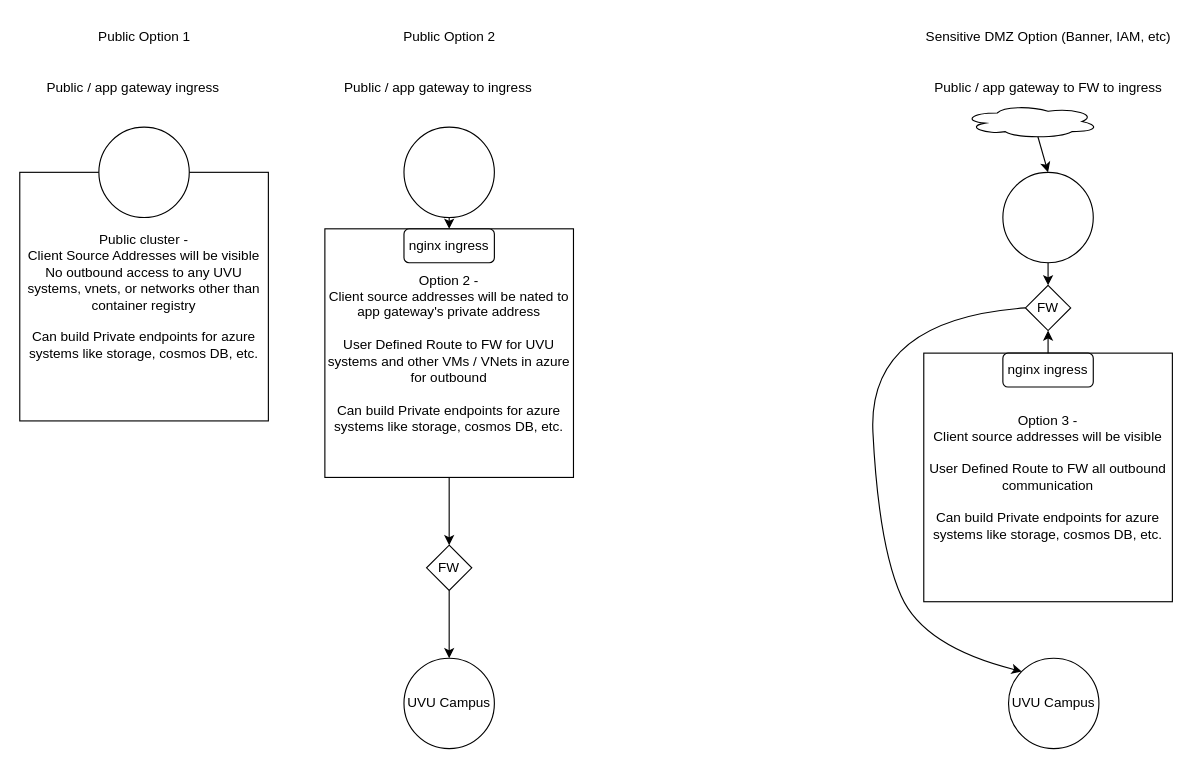
The diagram is 1203 pixels wide and 768 high, and some of its shapes have lost their labels. The centre of each missing label's shape, as x and y in pixels:
"App Gateway" goes at point (1047, 217).
"App Gateway Ingress" goes at point (143, 172).
"App Gateway Source nat" goes at point (448, 172).
